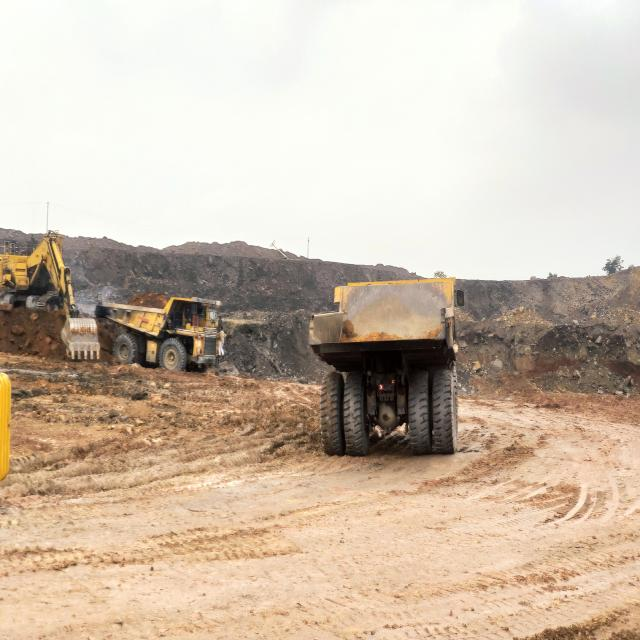dump_truck: (299, 275, 466, 452), (94, 286, 230, 378)
excavator: (0, 227, 103, 364)
